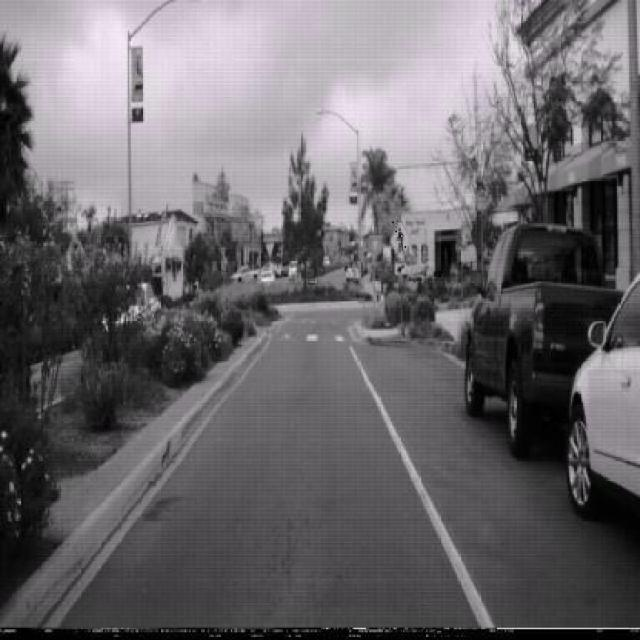pedestrianCrossing: (389, 218, 411, 264)
